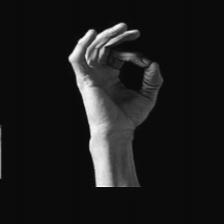five: (65, 19, 166, 134)
